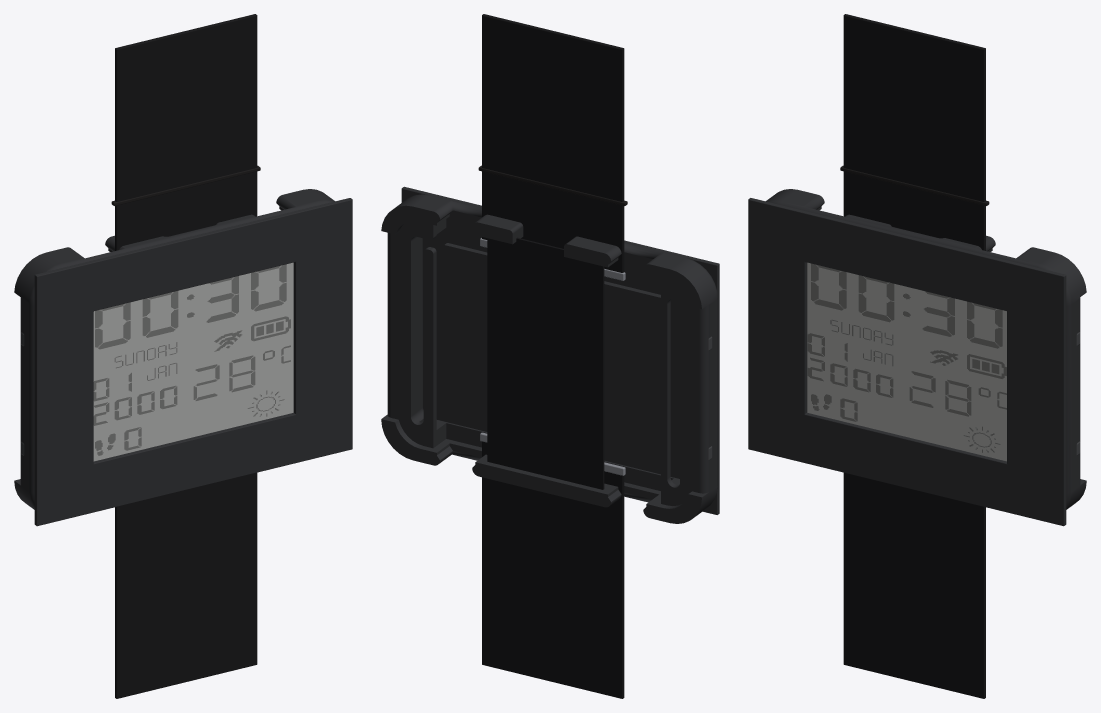
File: Party_Viewer.glb
3 views of the same model, side by side, from view 1: azimuth 30°, elevation 25°; view 2: azimuth 150°, elevation 25°; view 3: azimuth 330°, elevation 25° (orthographic).
Parts seen in each view (by area): view 1: WatchyConsumerBezel, WatchyScreenInsert, WatchyScreenGlass, WatchyStrapNorth, WatchyStrapSouth, PartyBottom, WatchyStrapKeeperA; view 2: PartyBottom, WatchyStrapNorth, WatchyStrapSouth, WatchyStrap, WatchyScreenBackplate, WatchyConsumerBezel, WatchyStrapKeeperA; view 3: WatchyConsumerBezel, WatchyScreenInsert, WatchyScreenGlass, WatchyStrapNorth, WatchyStrapSouth, PartyBottom, WatchyStrapKeeperA.
Boxes of the visible parts, box(x1,y1,x2,y2) form: WatchyConsumerBezel: box(34, 198, 352, 526); WatchyScreenInsert: box(93, 262, 293, 461); WatchyScreenGlass: box(94, 263, 292, 460); WatchyStrapNorth: box(115, 14, 257, 250); WatchyStrapSouth: box(115, 472, 257, 698); PartyBottom: box(14, 189, 334, 509); WatchyStrapKeeperA: box(111, 165, 260, 205); PartyBottom: box(381, 194, 717, 523); WatchyStrapNorth: box(482, 14, 624, 272); WatchyStrapSouth: box(482, 441, 624, 698); WatchyStrap: box(487, 237, 604, 489); WatchyScreenBackplate: box(444, 243, 660, 464); WatchyConsumerBezel: box(401, 186, 719, 514); WatchyStrapKeeperA: box(478, 165, 627, 205); WatchyConsumerBezel: box(748, 198, 1066, 526); WatchyScreenInsert: box(807, 262, 1006, 461); WatchyScreenGlass: box(808, 263, 1006, 460); WatchyStrapNorth: box(843, 14, 985, 250); WatchyStrapSouth: box(843, 472, 985, 698); PartyBottom: box(766, 189, 1086, 509); WatchyStrapKeeperA: box(840, 165, 989, 205).
Size of the model in its own units: 0.0501 by 0.0968 by 0.00549.
Materials: 7 (1 with a texture image).
